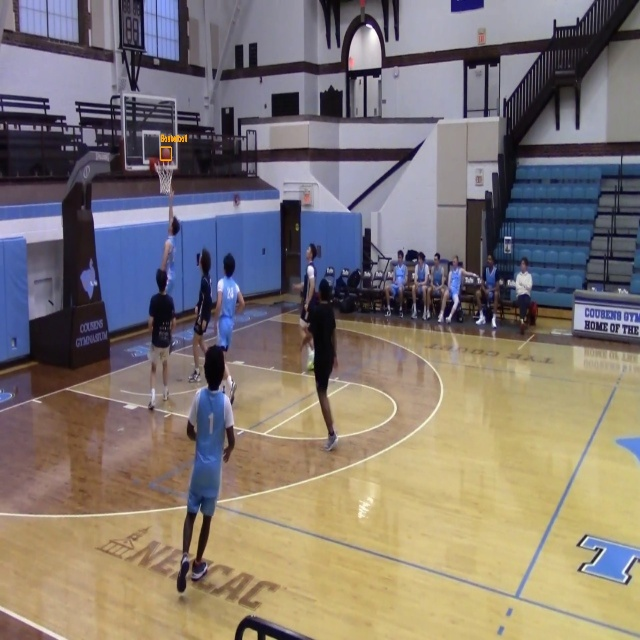Basketball: (161, 147, 171, 161)
